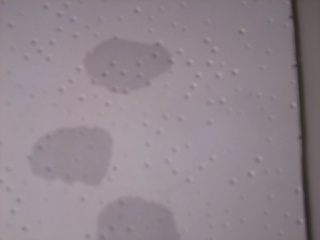Water_detected: (33, 126, 102, 186), (94, 39, 157, 80), (101, 199, 161, 240)
